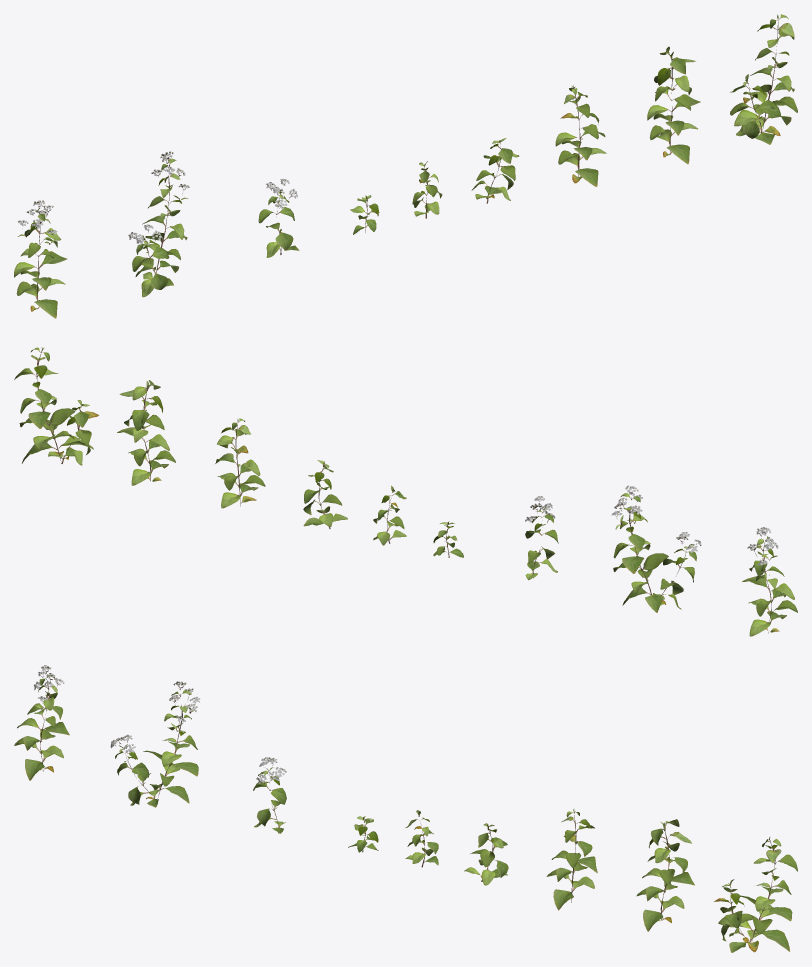
The model's file is shrub_01.glb.
3 renders of one model, top to bottom at view 1: azimuth 30°, elevation 25°; view 2: azimuth 150°, elevation 25°; view 3: azimuth 330°, elevation 25°, orthographic. The views are drawn at different scales.
Parts seen in each view (by area): view 1: shrub_01_a; view 2: shrub_01_a; view 3: shrub_01_a.
Boxes of the visible parts, bbox=[...] form: shrub_01_a: bbox=[14, 14, 797, 318]; shrub_01_a: bbox=[14, 347, 797, 636]; shrub_01_a: bbox=[14, 665, 797, 952].
Size of the model in its own units: 2.59 by 0.3955 by 0.2187.
Materials: 1 (1 with a texture image).
